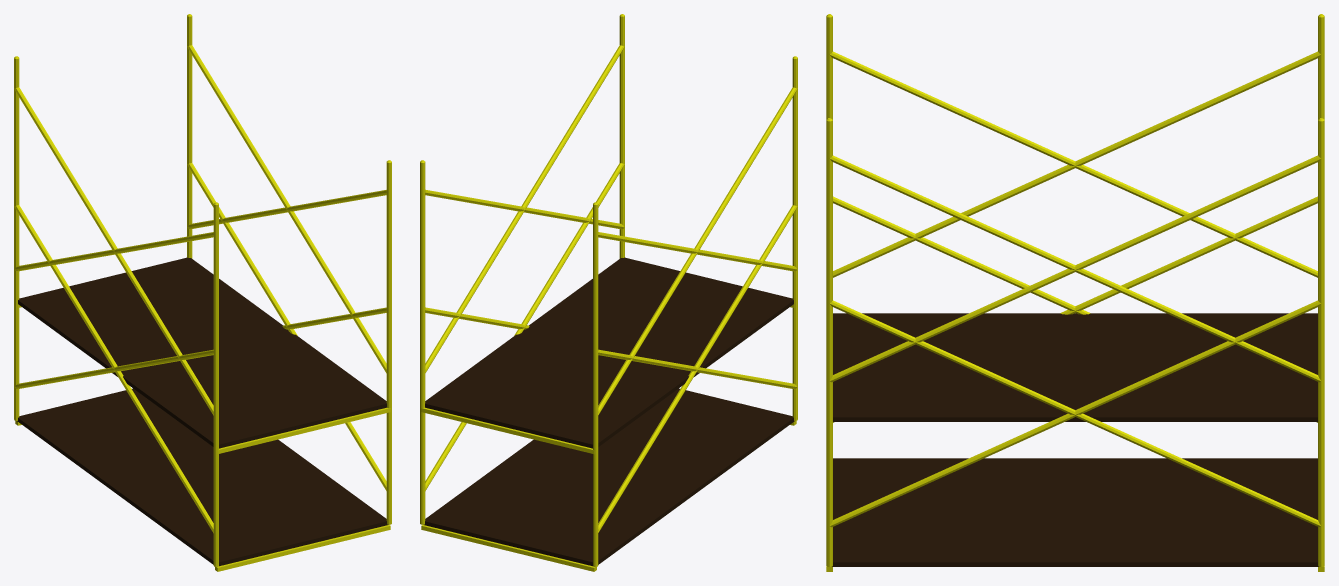
The model's file is Scaffolding.fbx.
3 views of the same model, side by side, from view 1: azimuth 30°, elevation 25°; view 2: azimuth 150°, elevation 25°; view 3: azimuth 270°, elevation 25° (orthographic). The views are drawn at different scales.
Visible parts, largest first — view 1: ScaffoldingA, ScaffoldingB; view 2: ScaffoldingA, ScaffoldingB; view 3: ScaffoldingA, ScaffoldingB.
Boxes of the visible parts, bbox=[...] form: ScaffoldingA: bbox=[14, 14, 391, 566]; ScaffoldingB: bbox=[14, 134, 391, 571]; ScaffoldingA: bbox=[420, 14, 797, 566]; ScaffoldingB: bbox=[420, 134, 797, 571]; ScaffoldingA: bbox=[826, 14, 1324, 567]; ScaffoldingB: bbox=[826, 196, 1324, 571].
Size of the model in its own units: 1.54 by 3.05 by 3.04.
